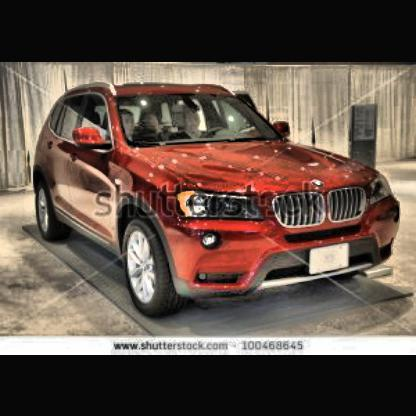BMW X3 SUV 2012: (31, 80, 405, 322)
